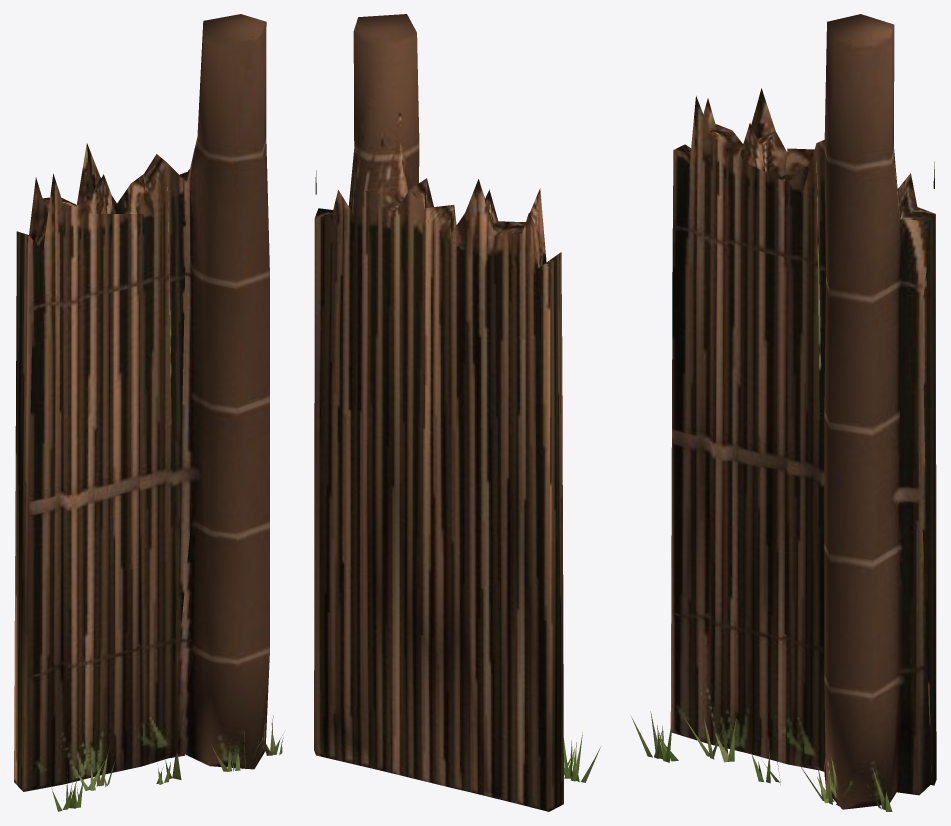
File: fence_reed_end_e_far.glb
3 views of the same model, side by side, from view 1: azimuth 30°, elevation 25°; view 2: azimuth 150°, elevation 25°; view 3: azimuth 330°, elevation 25° (orthographic). The views are drawn at different scales.
Parts seen in each view (by area): view 1: fence_reed_end_e_lod1; view 2: fence_reed_end_e_lod1; view 3: fence_reed_end_e_lod1.
Boxes of the visible parts, left/top/right/bottom form: fence_reed_end_e_lod1: left=14, top=14, right=283, bottom=811; fence_reed_end_e_lod1: left=314, top=14, right=600, bottom=811; fence_reed_end_e_lod1: left=631, top=14, right=936, bottom=811.
Bounding box in the file's own units: 0.6302 × 1.74 × 0.2045.
Materials: 1 (1 with a texture image).
